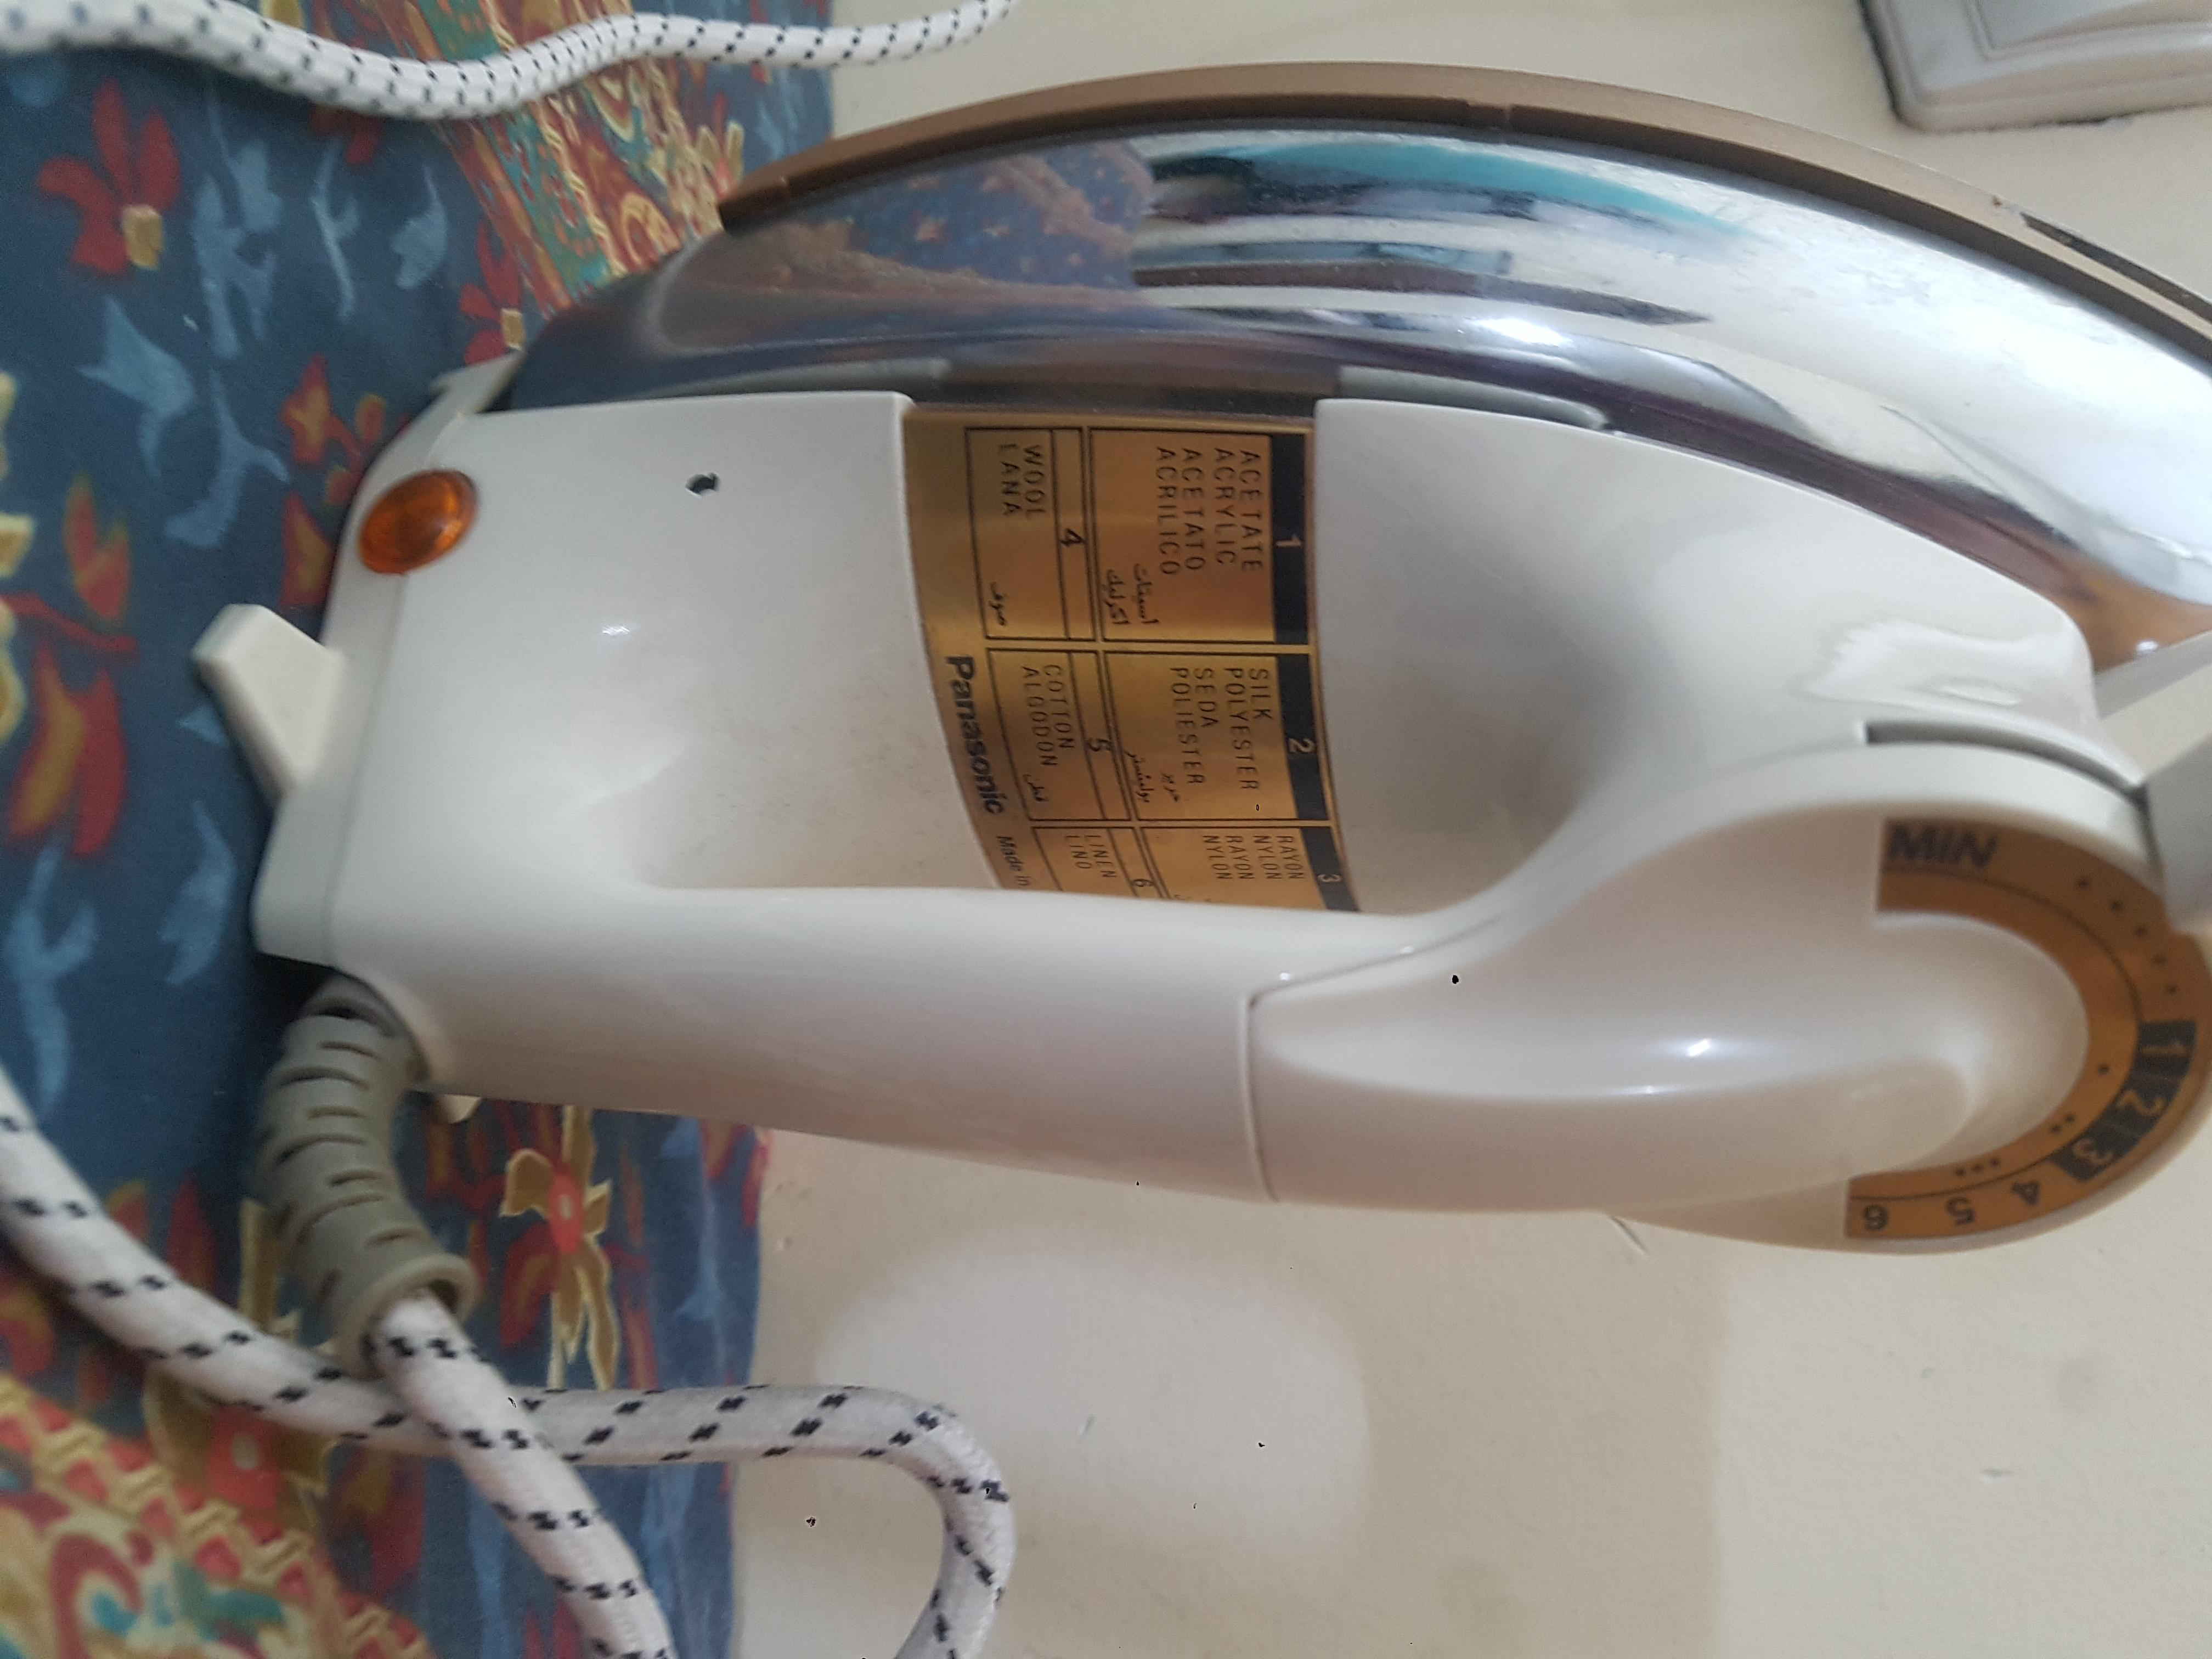electronic: (111, 17, 2128, 1628)
